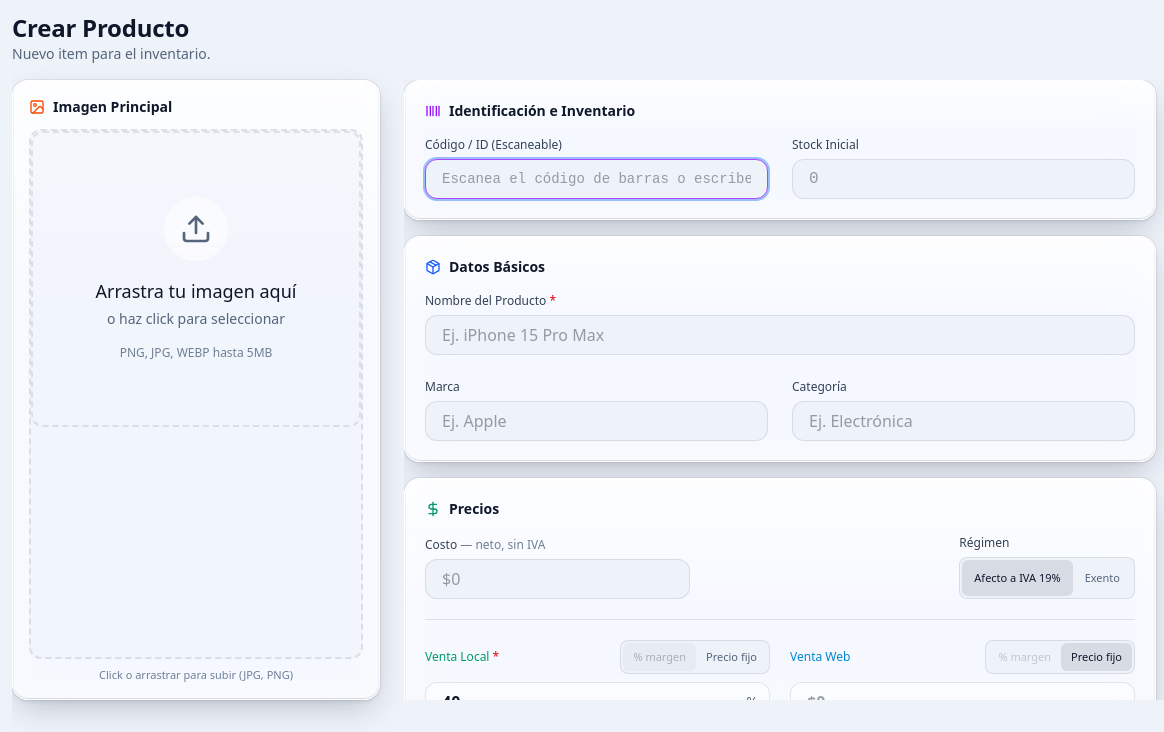
Scenario: Crear producto › exento quita el IVA del precio calculado
The width and height of the screenshot is (1164, 732).
In the field with placeholder "$0" below "Costo": (558, 579) [425,559,690,599], type "1000"
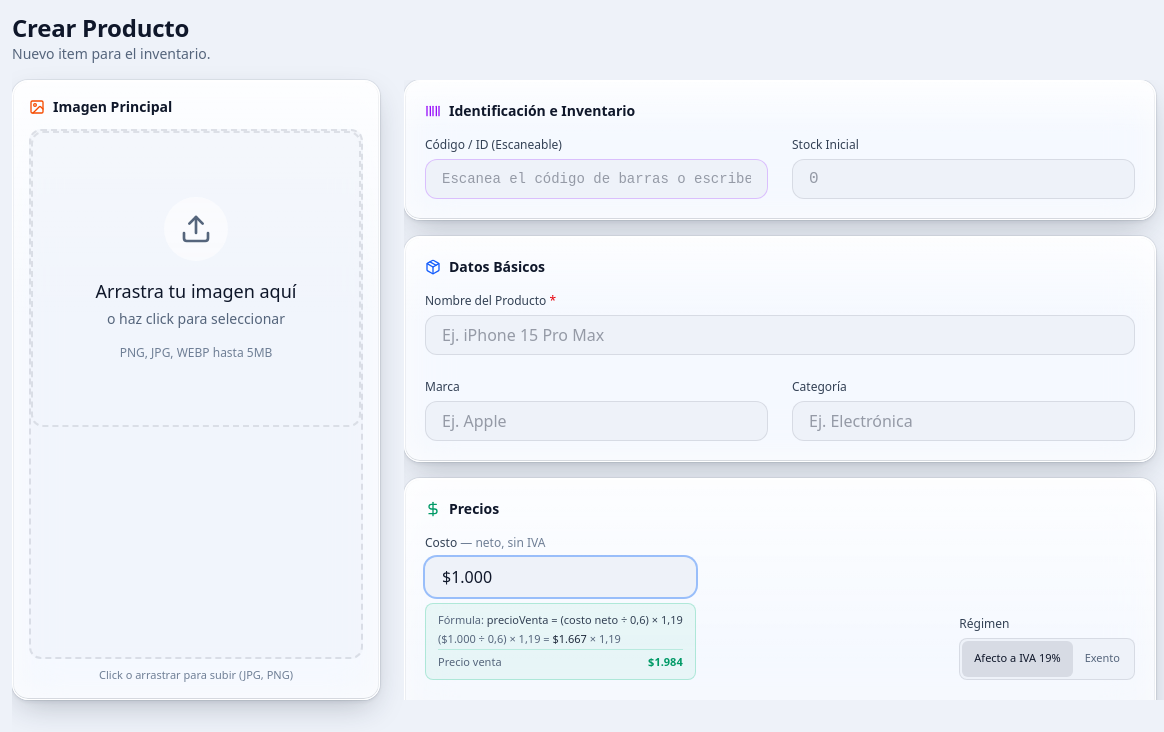
Click the button "Exento": (1102, 658) [1073,640,1132,676]
(page scrolled)
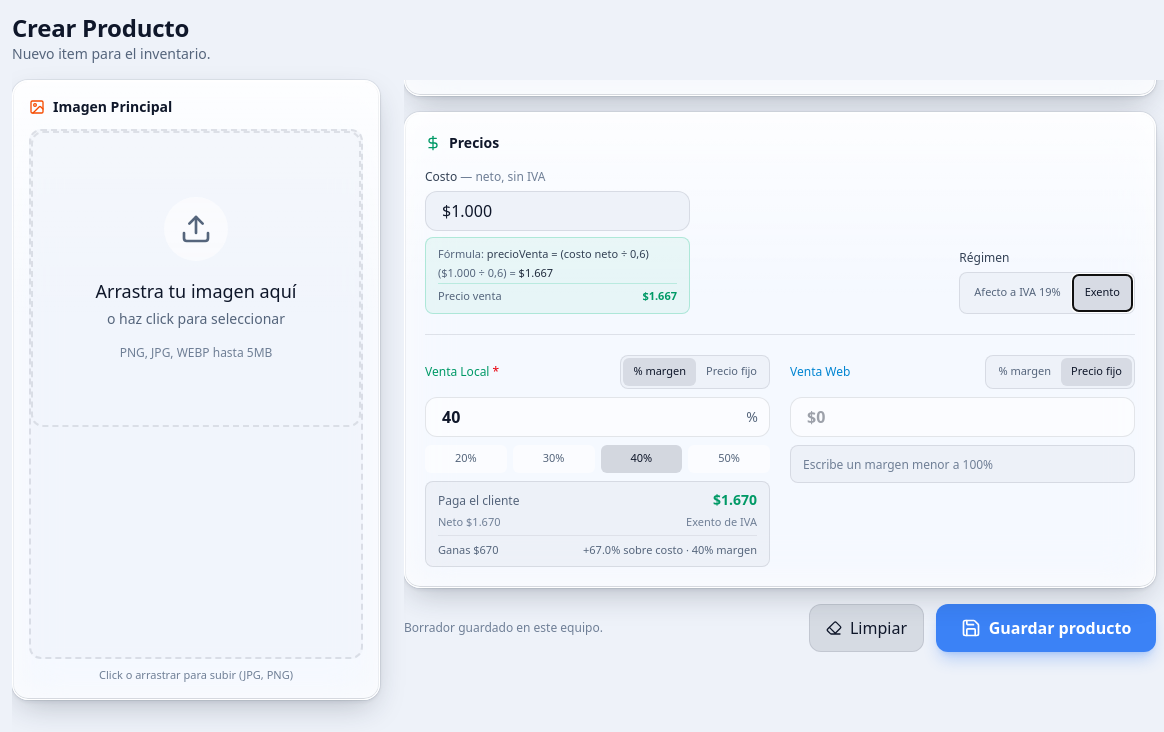
Now the text "$1.670" is shown, box [713,490,757,510]
